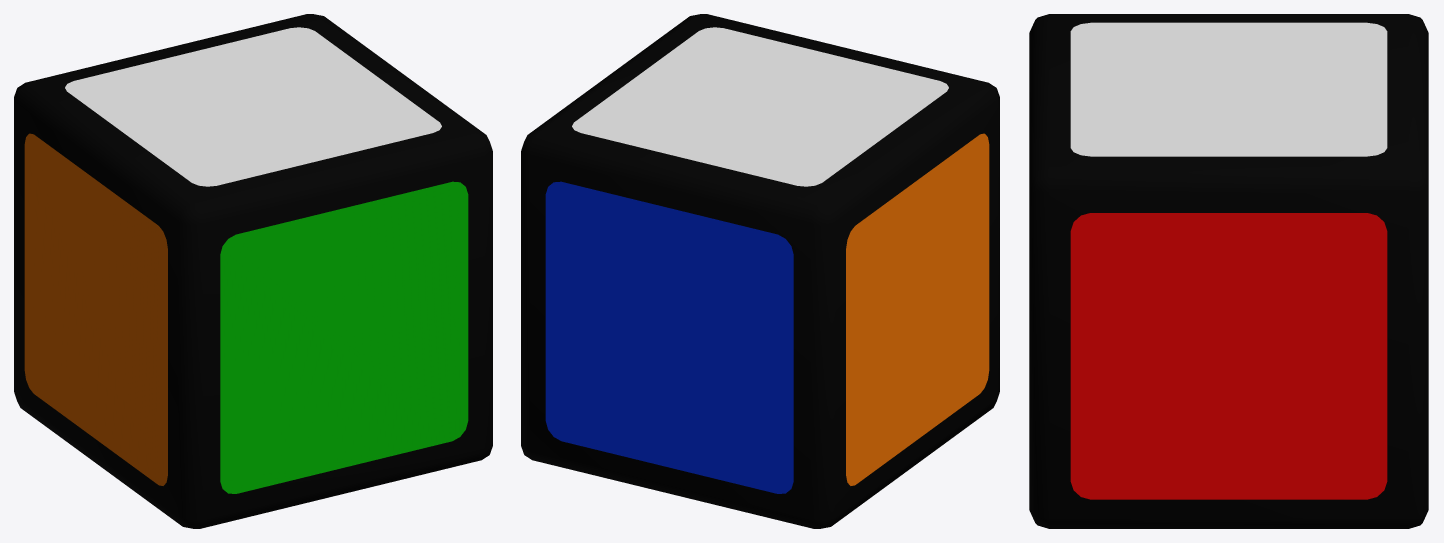
Rendered from M_cublet.fbx.
3 views of the same model, side by side, from view 1: azimuth 30°, elevation 25°; view 2: azimuth 150°, elevation 25°; view 3: azimuth 270°, elevation 25° (orthographic). The views are drawn at different scales.
Visible parts, largest first — view 1: Cublet; view 2: Cublet; view 3: Cublet.
Part boxes in pixels (x1,y1,x2,y2): Cublet: (14, 14, 492, 528); Cublet: (521, 14, 999, 528); Cublet: (1029, 14, 1428, 528).
Size of the model in its own units: 101 by 101 by 101.
